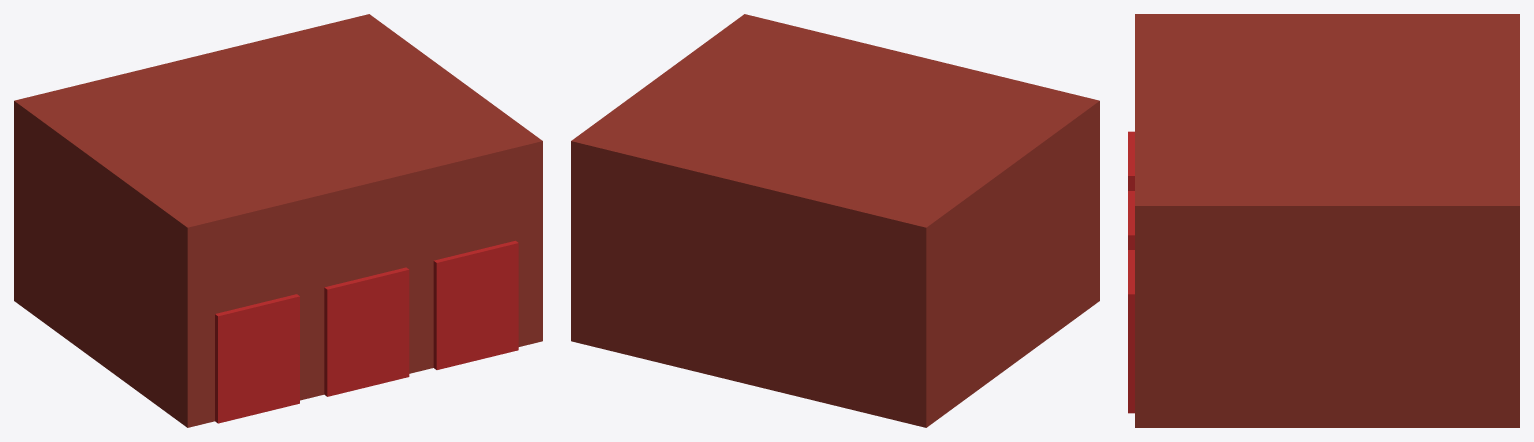
The model's file is fire_station_01.glb.
The picture shows the model from 3 angles, left to right: view 1: azimuth 30°, elevation 25°; view 2: azimuth 150°, elevation 25°; view 3: azimuth 270°, elevation 25°; orthographic projection. The views are drawn at different scales.
Size of the model in its own units: 26 by 14 by 22.4.
